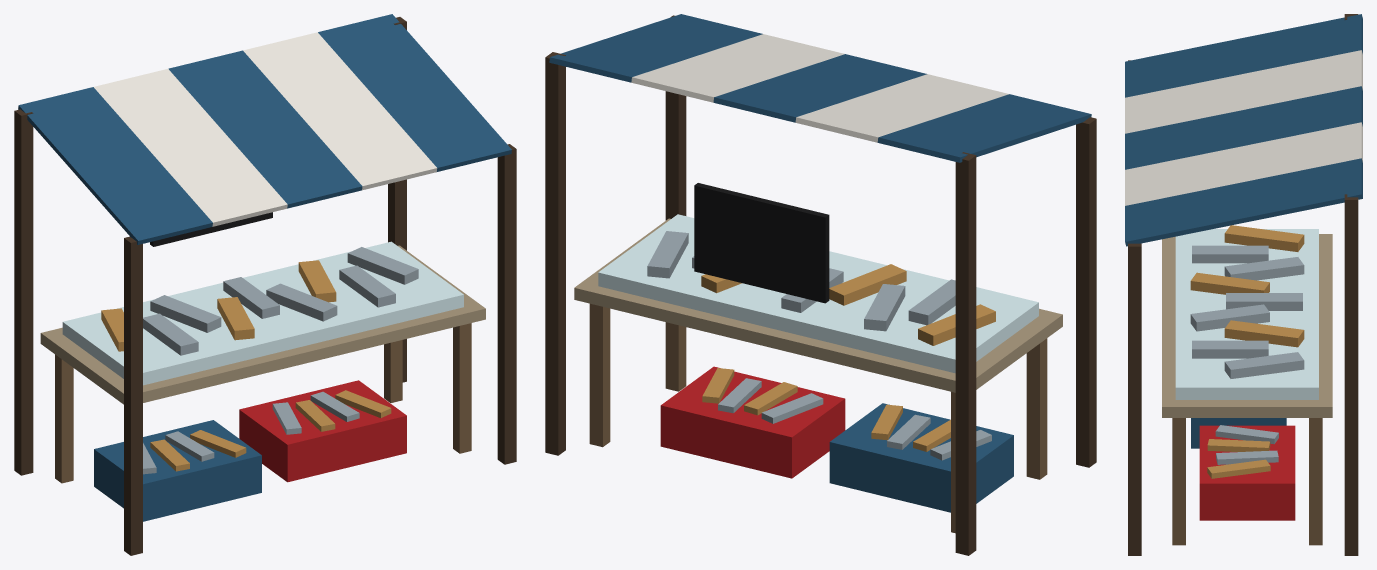
File: hb_fish_stall.glb
The picture shows the model from 3 angles, left to right: view 1: azimuth 30°, elevation 25°; view 2: azimuth 150°, elevation 25°; view 3: azimuth 270°, elevation 25°; orthographic projection. The views are drawn at different scales.
Parts seen in each view (by area): view 1: hb_fish_stall; view 2: hb_fish_stall; view 3: hb_fish_stall.
Boxes of the visible parts, x1=… form: hb_fish_stall: x1=14, y1=14, x2=516, y2=555; hb_fish_stall: x1=545, y1=14, x2=1096, y2=555; hb_fish_stall: x1=1125, y1=14, x2=1362, y2=555.
Bounding box in the file's own units: 2.58 × 2.32 × 1.39.
